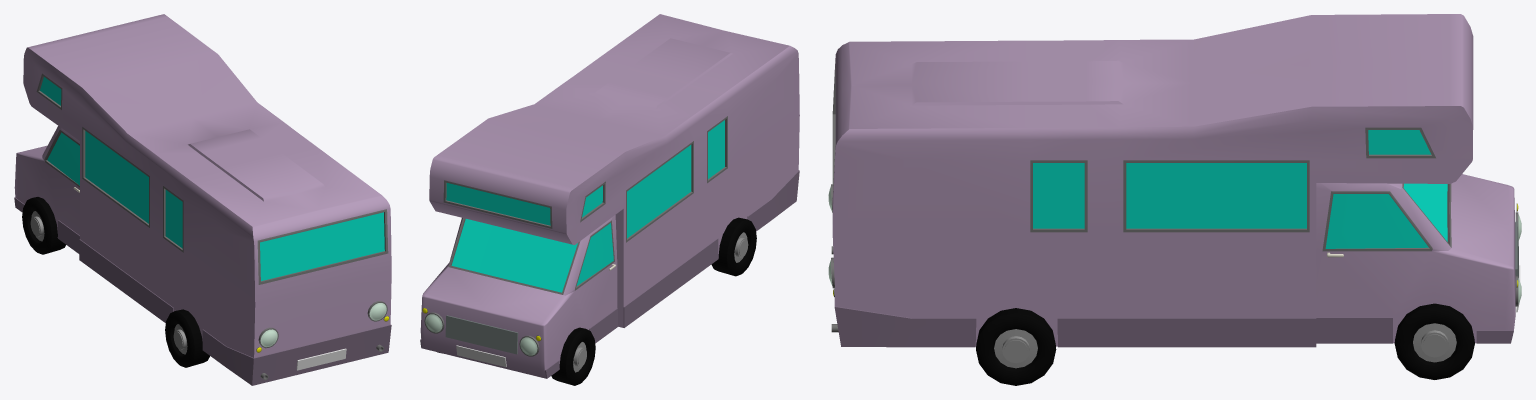
The model's file is Camper.fbx.
3 renders of one model, left to right at view 1: azimuth 30°, elevation 25°; view 2: azimuth 150°, elevation 25°; view 3: azimuth 270°, elevation 25°, orthographic. The views are drawn at different scales.
Visible parts, largest first — view 1: achter, band voor, kenteken; view 2: achter, band voor, kenteken; view 3: achter, band voor.
Part boxes in pixels (box(x1,y1,x2,y2)): achter: box(14, 14, 391, 385); band voor: box(22, 197, 209, 367); kenteken: box(296, 348, 346, 370); achter: box(420, 14, 799, 378); band voor: box(437, 217, 756, 385); kenteken: box(456, 345, 506, 367); achter: box(828, 14, 1521, 347); band voor: box(976, 303, 1474, 385).
Bounding box in the file's own units: 4.16 × 4.97 × 11.39.
